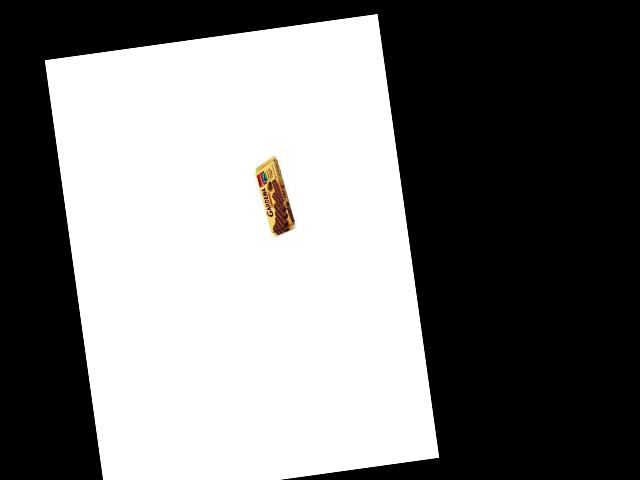chocolate: (252, 152, 293, 242)
